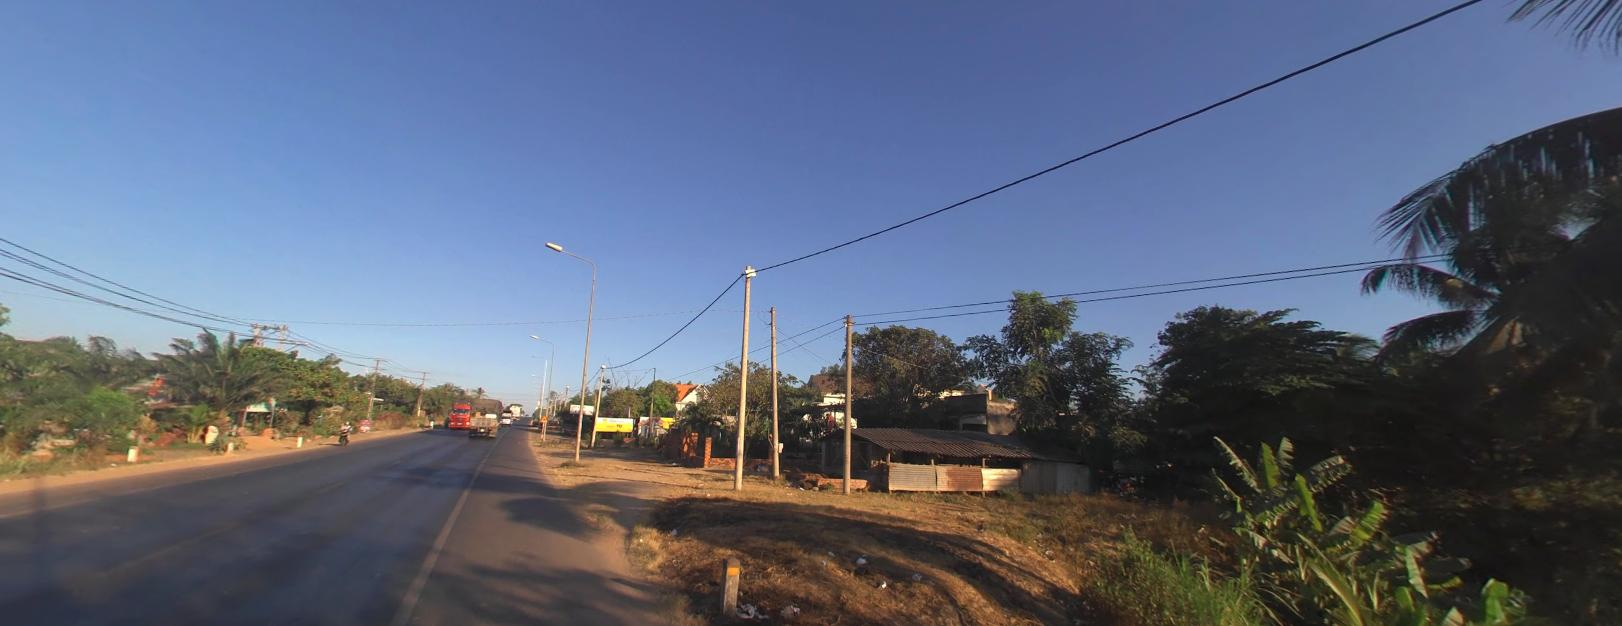Nguy hiem: (539, 413, 548, 421)
